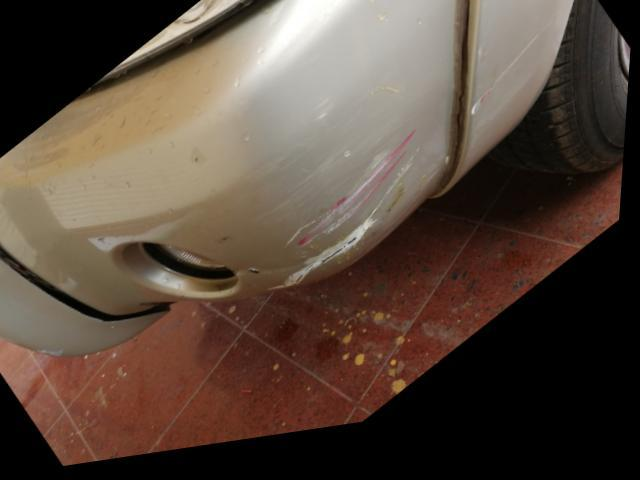scratch: (275, 131, 429, 299), (471, 36, 554, 134)
